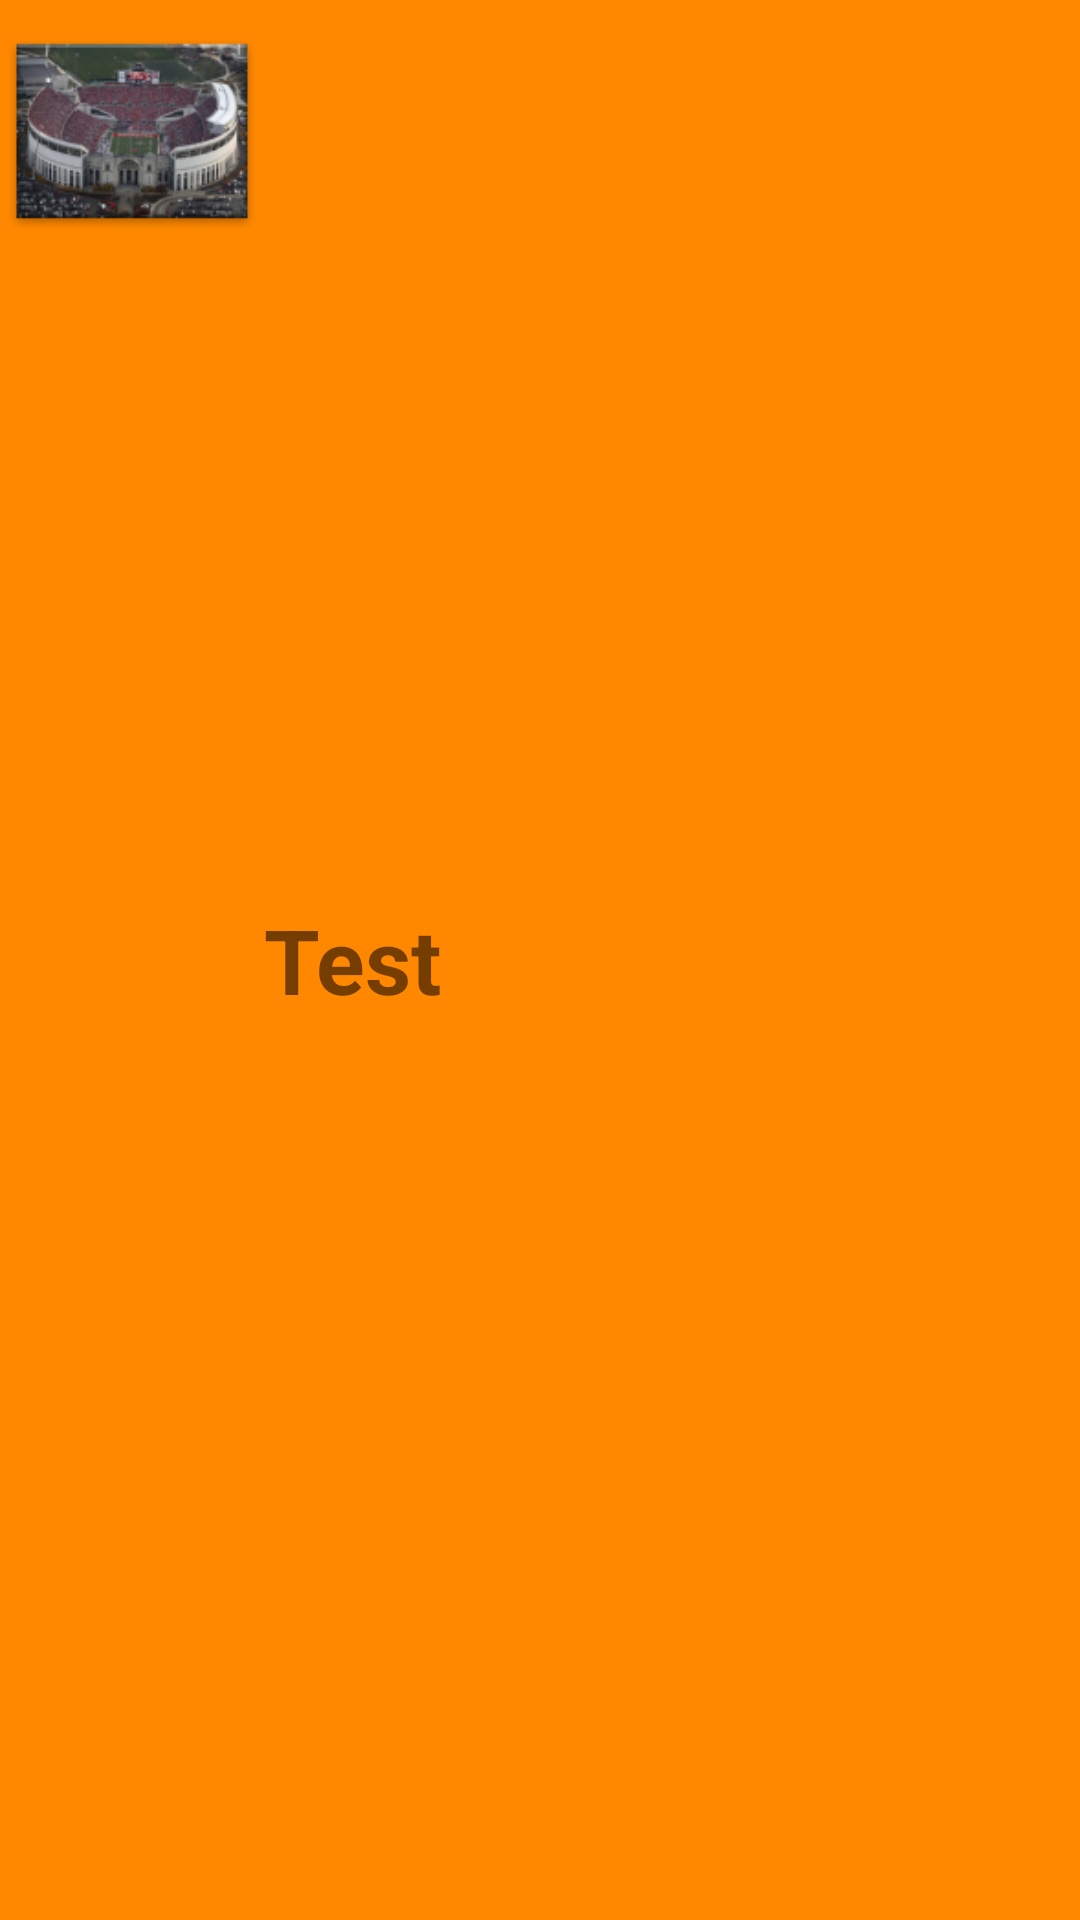

Point at icon controls on the screen. Image size 1080*1920, points as (x,y).
osu stadium: (132,133)
